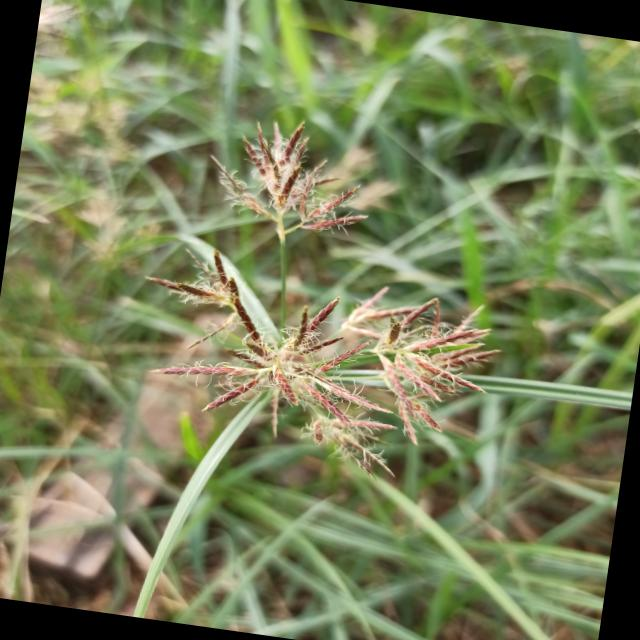cyperus: (118, 235, 513, 495), (195, 106, 381, 255)
